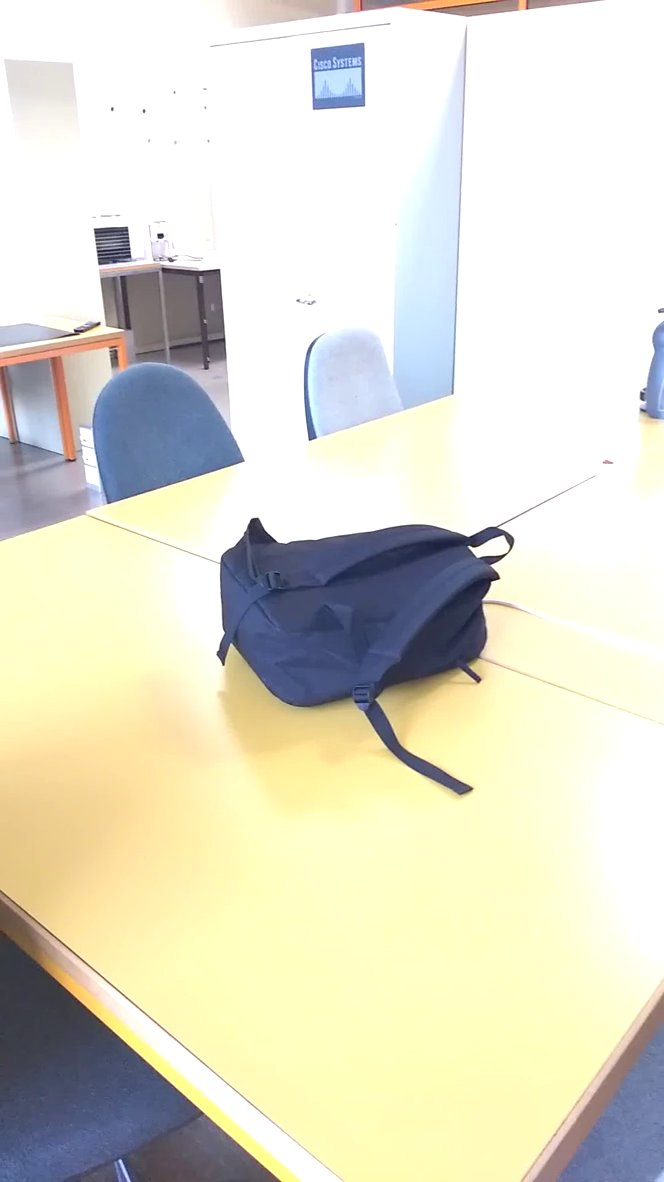bag: (151, 505, 540, 816)
chair: (81, 356, 265, 507), (286, 322, 421, 445)
